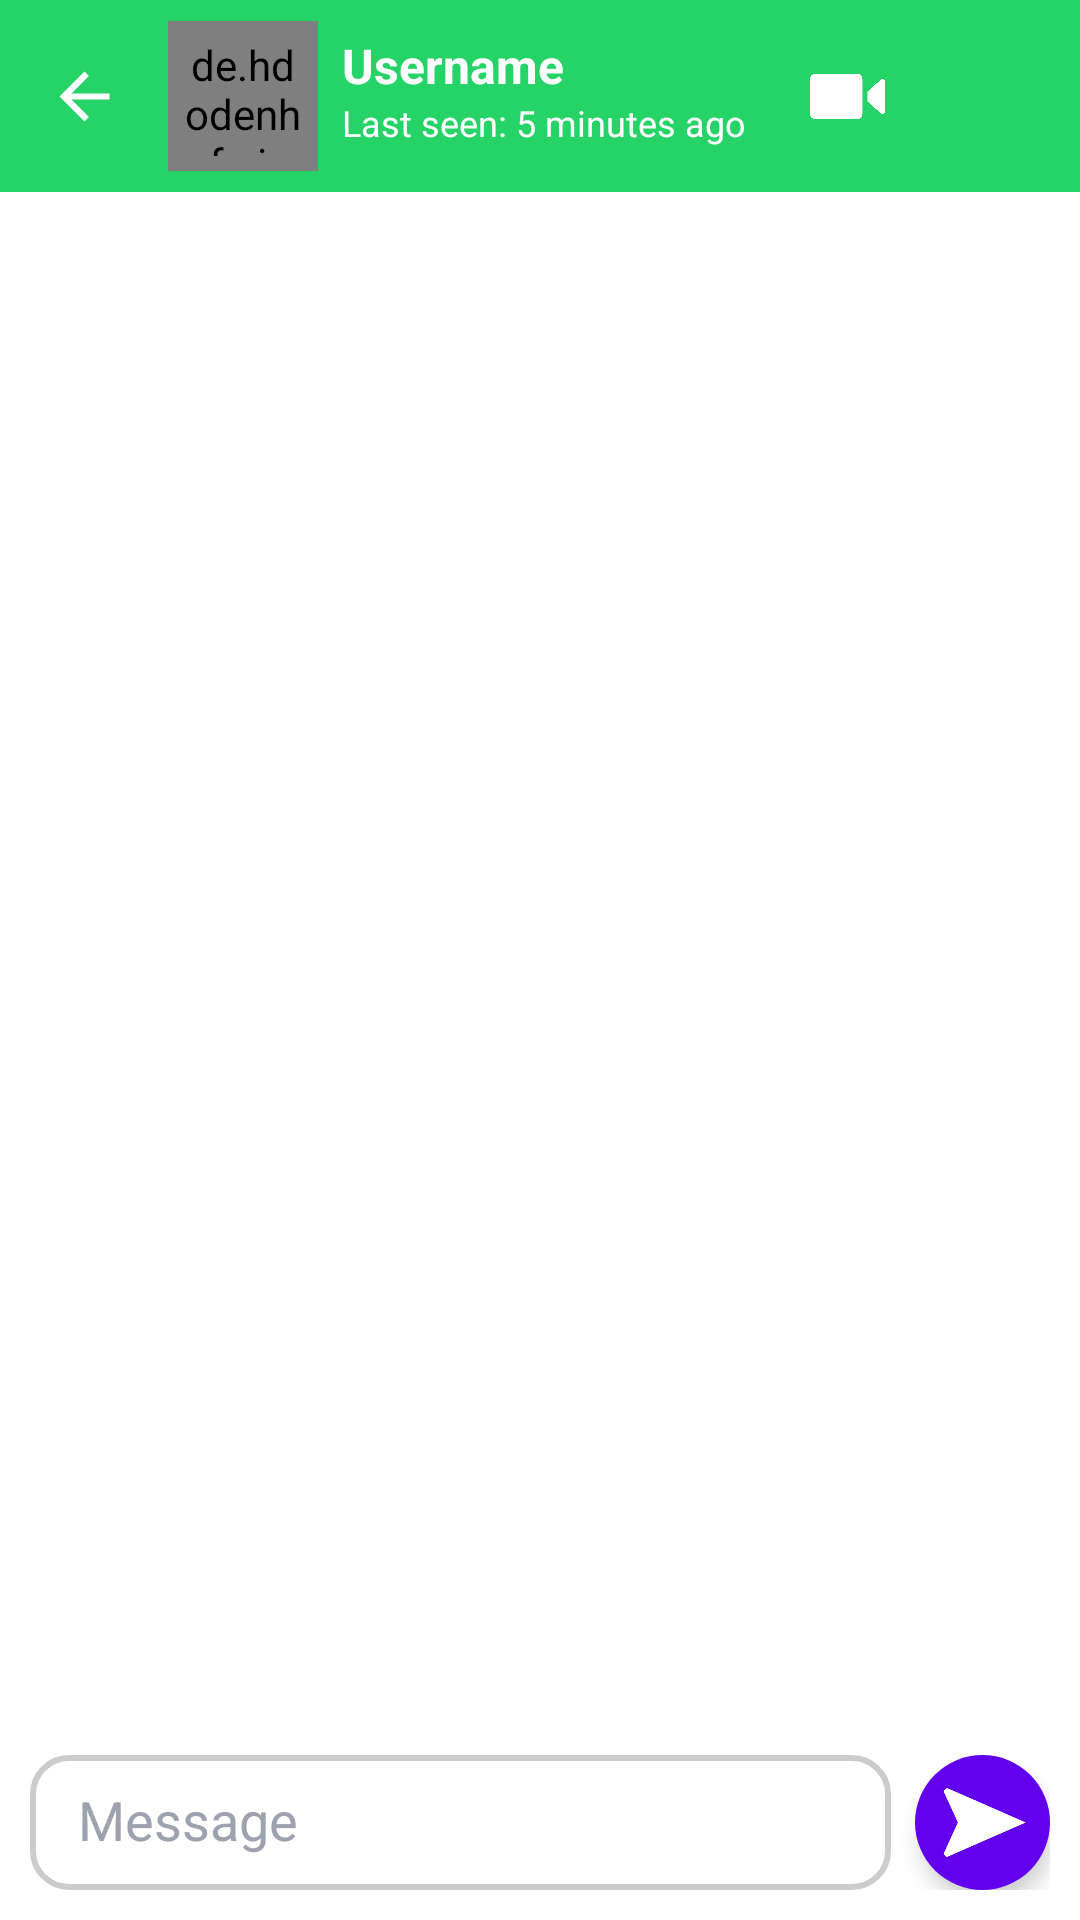

Screen size 1080 x 1920. Icon name, then its box in pixels as (x1, y1, x2, y2):
Send: (915, 1755, 1050, 1890)
video call: (810, 74, 885, 119)
